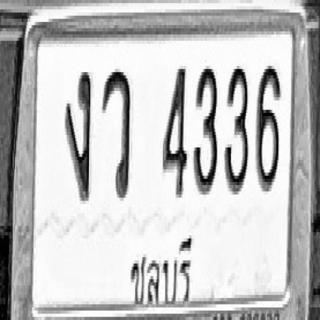A07: (65, 69, 91, 201)
A37: (101, 67, 131, 199)
N03: (224, 64, 248, 193), (193, 66, 217, 195)
N04: (162, 66, 187, 198)
N06: (255, 63, 281, 191)
P13: (121, 231, 195, 314)
